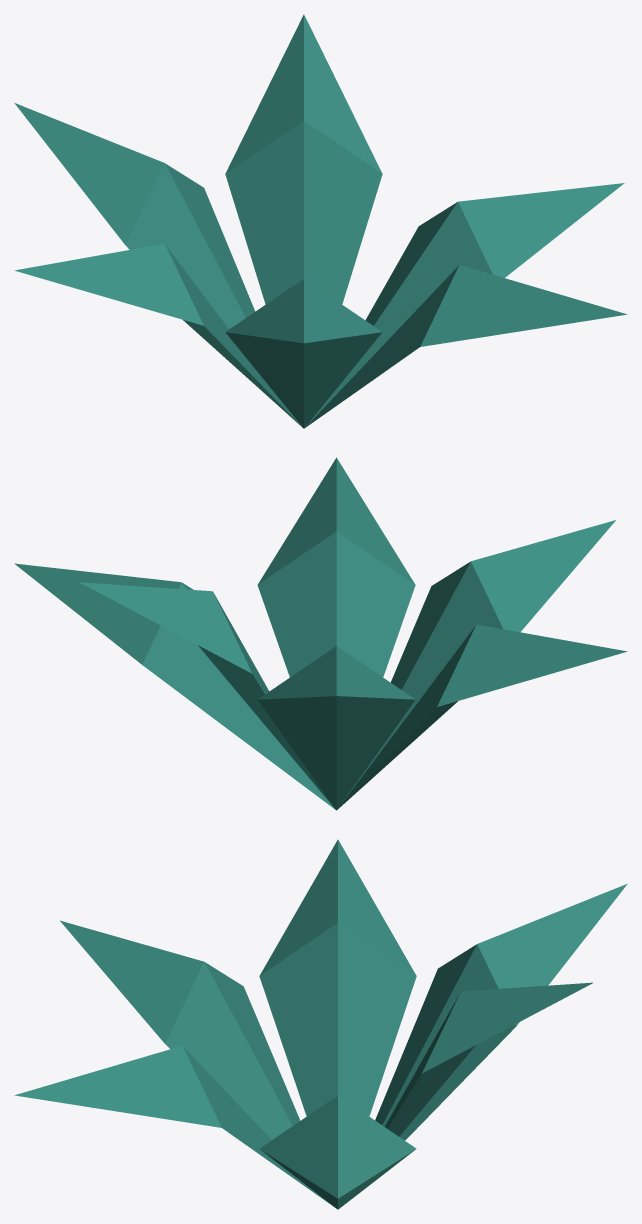
3 views of the same model, one above another, from view 1: azimuth 30°, elevation 25°; view 2: azimuth 150°, elevation 25°; view 3: azimuth 270°, elevation 25° (orthographic).
Parts seen in each view (by area): view 1: 原森林完整植株_4.001; view 2: 原森林完整植株_4.001; view 3: 原森林完整植株_4.001.
Part boxes in pixels (x1,y1,x2,y2): 原森林完整植株_4.001: [14, 14, 627, 428]; 原森林完整植株_4.001: [14, 457, 627, 810]; 原森林完整植株_4.001: [14, 839, 627, 1209].
Bounding box in the file's own units: 0.2868 × 0.13 × 0.2497.
